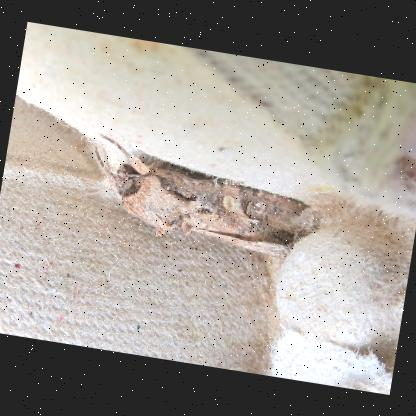Fall Armyworm Moth: (76, 127, 332, 268)
